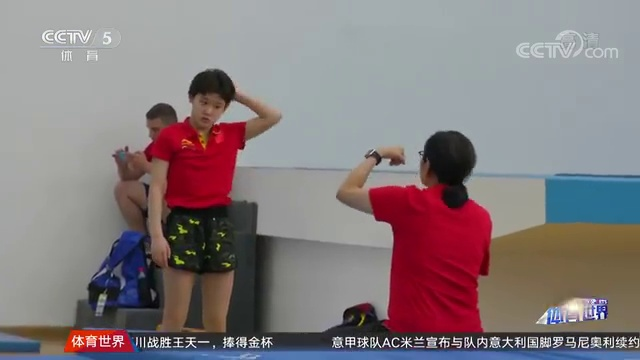face: (194, 91, 223, 125)
